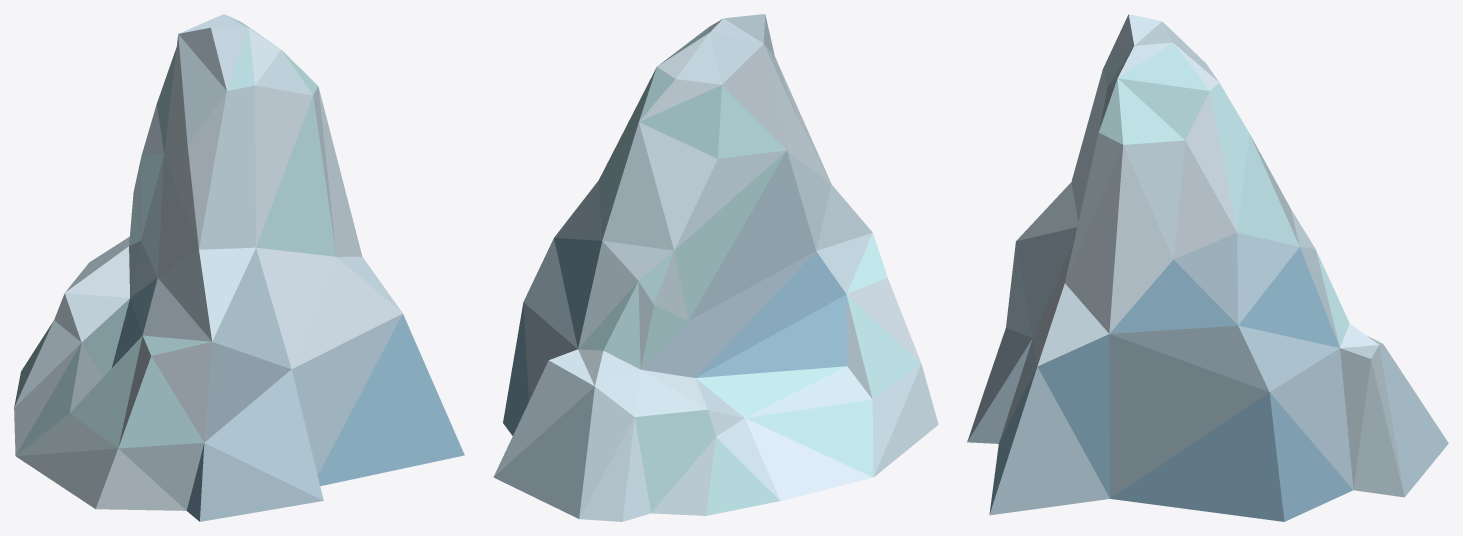
Rendered from Iceberg 8.fbx.
3 views of the same model, side by side, from view 1: azimuth 30°, elevation 25°; view 2: azimuth 150°, elevation 25°; view 3: azimuth 270°, elevation 25° (orthographic). The views are drawn at different scales.
Parts seen in each view (by area): view 1: Iceberg 8; view 2: Iceberg 8; view 3: Iceberg 8.
Boxes of the visible parts, left/top/right/bottom form: Iceberg 8: left=14, top=14, right=464, bottom=521; Iceberg 8: left=493, top=14, right=938, bottom=521; Iceberg 8: left=967, top=14, right=1448, bottom=521.
Size of the model in its own units: 6726 by 7691 by 8121.
